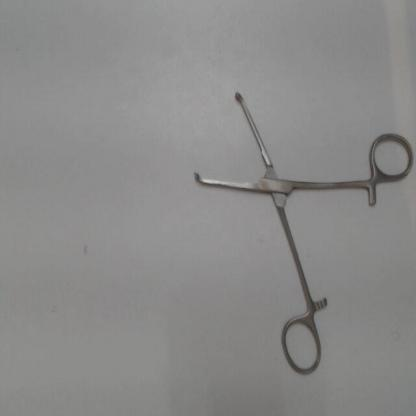Allis Tissue Forceps: (175, 73, 415, 383)
